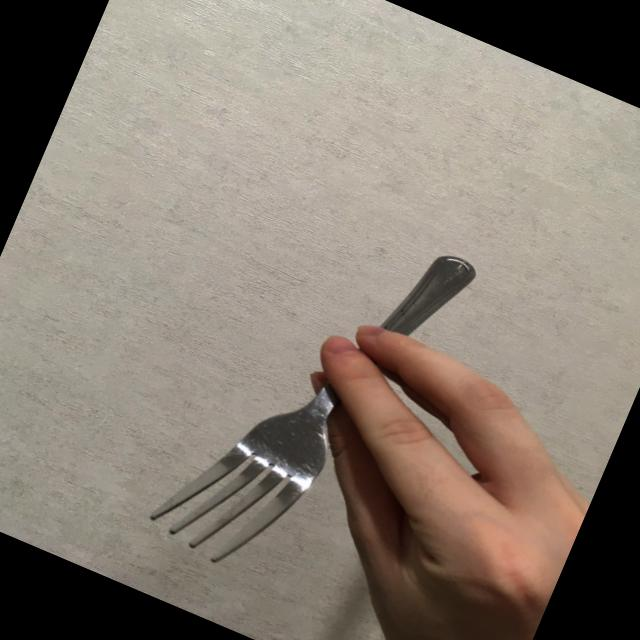fork: (138, 186, 478, 616)
